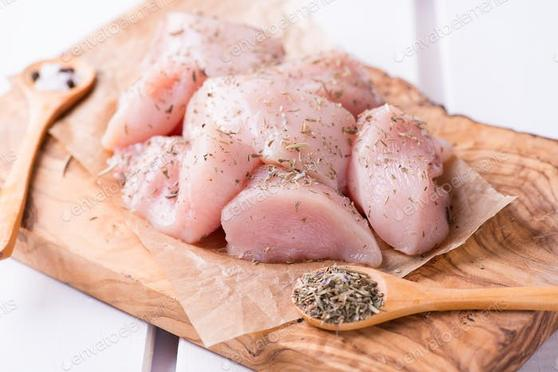chicken_fillet: (162, 77, 357, 195)
